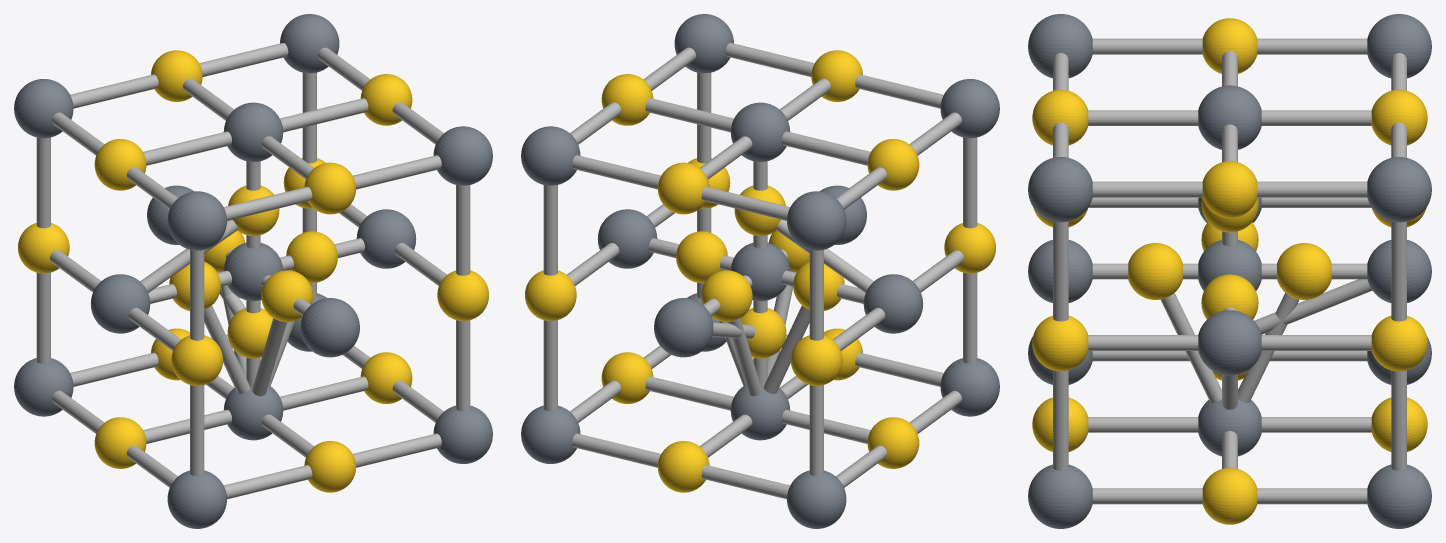
The model's file is iron_sulfide.glb.
The picture shows the model from 3 angles, left to right: view 1: azimuth 30°, elevation 25°; view 2: azimuth 150°, elevation 25°; view 3: azimuth 270°, elevation 25°; orthographic projection. The views are drawn at different scales.
Parts seen in each view (by area): view 1: Fe_14, Fe_4, Fe_2, Fe_8, Fe_6, Fe_3, Fe_11, Fe_1, Fe_7, Fe_10, Fe_12, Fe_15 (+53 smaller); view 2: Fe_13, Fe_3, Fe_1, Fe_7, Fe_5, Fe_4, Fe_11, Fe_2, Fe_8, Fe_10, Fe_12, Fe_15 (+55 smaller); view 3: Fe_7, Fe_8, Fe_12, Fe_5, Fe_6, Fe_3, Fe_4, Fe_10, Fe_9, S_10, S_12, S_13 (+49 smaller).
Part boxes in pixels (box(x1,y1,x2,y2)): Fe_14: box(300, 298, 359, 357); Fe_4: box(167, 191, 226, 250); Fe_2: box(167, 470, 226, 528); Fe_8: box(433, 126, 492, 185); Fe_6: box(433, 405, 492, 463); Fe_3: box(14, 79, 73, 138); Fe_11: box(90, 274, 150, 333); Fe_1: box(14, 358, 73, 416); Fe_7: box(280, 14, 339, 73); Fe_10: box(223, 102, 283, 161); Fe_12: box(356, 209, 416, 268); Fe_15: box(223, 243, 282, 301); Fe_13: box(654, 298, 713, 357); Fe_3: box(787, 191, 846, 250); Fe_1: box(787, 470, 846, 528); Fe_7: box(521, 126, 580, 185); Fe_5: box(521, 405, 580, 463); Fe_4: box(940, 79, 999, 138); Fe_11: box(863, 274, 923, 333); Fe_2: box(940, 358, 999, 416); Fe_8: box(674, 14, 733, 73); Fe_10: box(730, 102, 790, 161); Fe_12: box(597, 209, 657, 268); Fe_15: box(731, 243, 790, 301); Fe_7: box(1367, 157, 1431, 222); Fe_8: box(1028, 157, 1092, 222); Fe_12: box(1198, 310, 1261, 375); Fe_5: box(1367, 464, 1431, 528); Fe_6: box(1028, 464, 1092, 528); Fe_3: box(1367, 14, 1431, 78); Fe_4: box(1028, 14, 1092, 78); Fe_10: box(1198, 85, 1261, 149); Fe_9: box(1198, 399, 1261, 456); S_10: box(1202, 467, 1257, 524); S_12: box(1202, 161, 1257, 218); S_13: box(1277, 243, 1331, 299).
Size of the model in its own units: 3.82 by 3.82 by 3.82.
